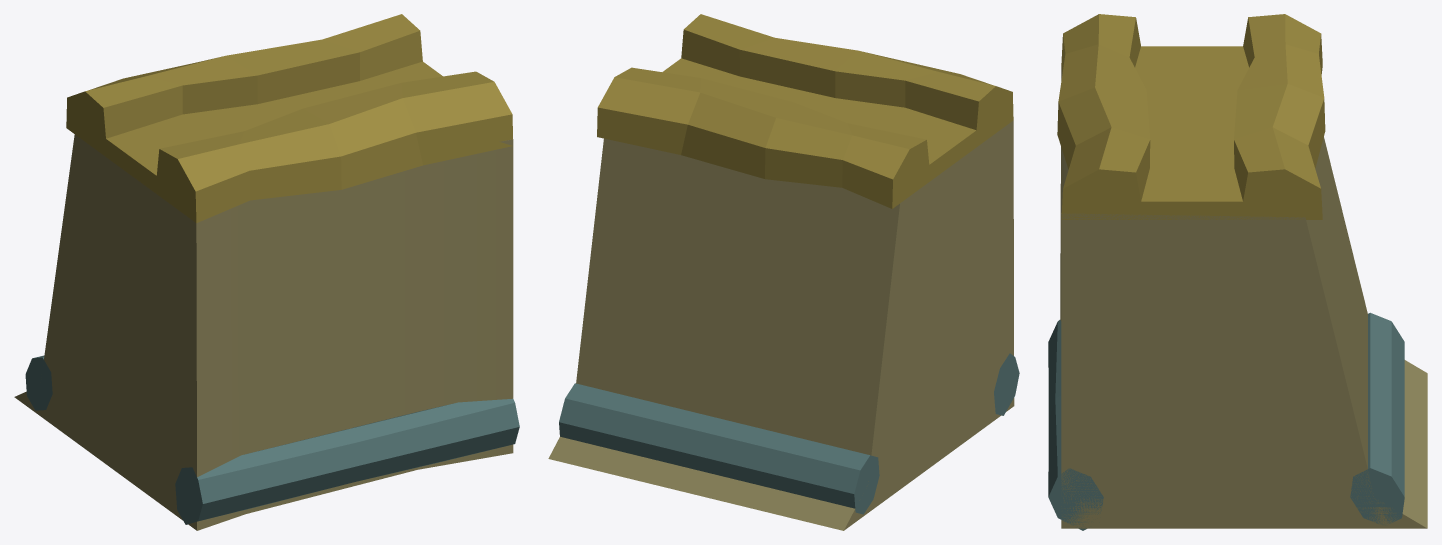
File: Int_21_wall_Hor.fbx
3 views of the same model, side by side, from view 1: azimuth 30°, elevation 25°; view 2: azimuth 150°, elevation 25°; view 3: azimuth 270°, elevation 25° (orthographic). The views are drawn at different scales.
Visible parts, largest first — view 1: Int_21_wall_Hor; view 2: Int_21_wall_Hor; view 3: Int_21_wall_Hor.
Part boxes in pixels (x1=…): Int_21_wall_Hor: x1=14, y1=14, x2=519, y2=530; Int_21_wall_Hor: x1=548, y1=14, x2=1019, y2=530; Int_21_wall_Hor: x1=1048, y1=14, x2=1427, y2=530.
Size of the model in its own units: 1 by 1.09 by 1.03.
